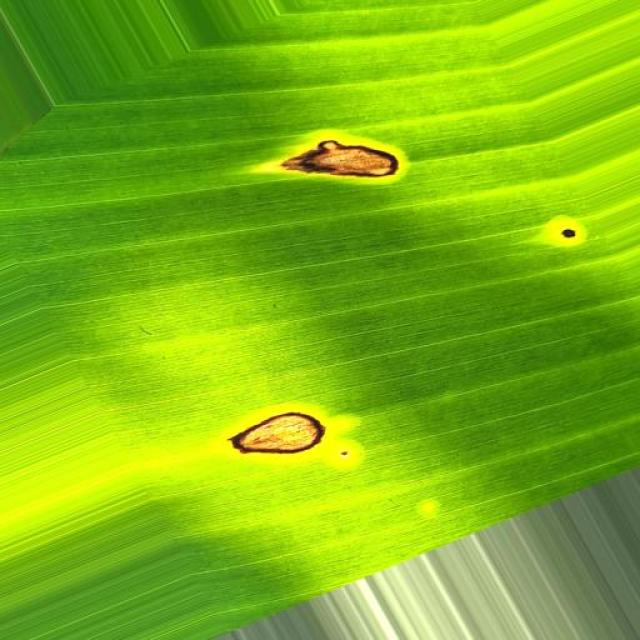Early_rust: (234, 114, 433, 220), (190, 388, 371, 496), (530, 201, 623, 300)
